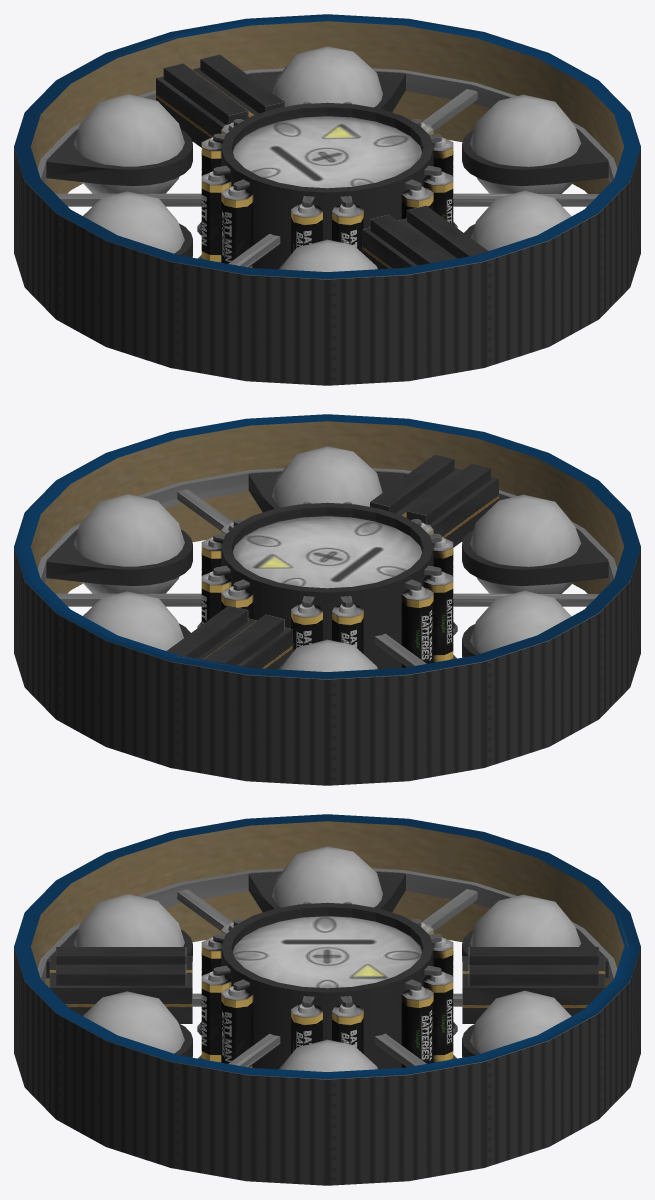
File: PowerModule.FBX
The picture shows the model from 3 angles, top to bottom: view 1: azimuth 30°, elevation 25°; view 2: azimuth 150°, elevation 25°; view 3: azimuth 270°, elevation 25°; orthographic projection.
Parts seen in each view (by area): view 1: MainBody, Cylinder047, MonoTank007, MonoTank005, MonoTank006, MonoTank002, MonoBracket007, MonoBracket005, MonoTank004, Tube003, AvionicsBox009, Box109 (+17 smaller); view 2: MainBody, Cylinder047, MonoTank005, MonoTank003, MonoTank004, MonoTank002, MonoBracket005, MonoBracket003, MonoTank006, Tube003, AvionicsBox005, Box110 (+17 smaller); view 3: MainBody, Cylinder047, MonoTank002, Tube003, MonoTank003, MonoTank007, MonoTank006, MonoTank004, AvionicsBox005, AvionicsBox009, AvionicsBox008, AvionicsBox011 (+15 smaller).
Part boxes in pixels (x1=…): MainBody: x1=14, y1=14, x2=640, y2=385; Cylinder047: x1=221, y1=102, x2=433, y2=241; MonoTank007: x1=74, y1=94, x2=184, y2=193; MonoTank005: x1=470, y1=94, x2=581, y2=193; MonoTank006: x1=273, y1=46, x2=382, y2=107; MonoTank002: x1=83, y1=191, x2=184, y2=253; MonoBracket007: x1=46, y1=129, x2=192, y2=186; MonoBracket005: x1=462, y1=129, x2=608, y2=186; MonoTank004: x1=471, y1=190, x2=571, y2=250; Tube003: x1=37, y1=68, x2=617, y2=182; AvionicsBox009: x1=156, y1=67, x2=258, y2=147; Box109: x1=55, y1=193, x2=598, y2=206; MainBody: x1=14, y1=414, x2=640, y2=785; Cylinder047: x1=221, y1=502, x2=433, y2=641; MonoTank005: x1=74, y1=494, x2=184, y2=593; MonoTank003: x1=470, y1=494, x2=581, y2=593; MonoTank004: x1=272, y1=446, x2=382, y2=507; MonoTank002: x1=470, y1=590, x2=571, y2=653; MonoBracket005: x1=46, y1=529, x2=192, y2=585; MonoBracket003: x1=462, y1=529, x2=608, y2=586; MonoTank006: x1=83, y1=591, x2=183, y2=650; Tube003: x1=37, y1=468, x2=617, y2=582; AvionicsBox005: x1=396, y1=467, x2=498, y2=547; Box110: x1=55, y1=593, x2=598, y2=606; MainBody: x1=14, y1=814, x2=640, y2=1185; Cylinder047: x1=221, y1=902, x2=433, y2=1041; MonoTank002: x1=272, y1=846, x2=382, y2=907; Tube003: x1=37, y1=868, x2=617, y2=982; MonoTank003: x1=74, y1=894, x2=184, y2=946; MonoTank007: x1=470, y1=894, x2=581, y2=946; MonoTank006: x1=470, y1=990, x2=571, y2=1053; MonoTank004: x1=83, y1=991, x2=184, y2=1053; AvionicsBox005: x1=49, y1=956, x2=192, y2=1023; AvionicsBox009: x1=462, y1=956, x2=605, y2=1023; AvionicsBox008: x1=56, y1=964, x2=186, y2=985; AvionicsBox011: x1=468, y1=965, x2=598, y2=985.
Size of what is drawn, in the model's own units: 1.87 by 0.3517 by 1.87.
Materials: 1 (1 with a texture image).
